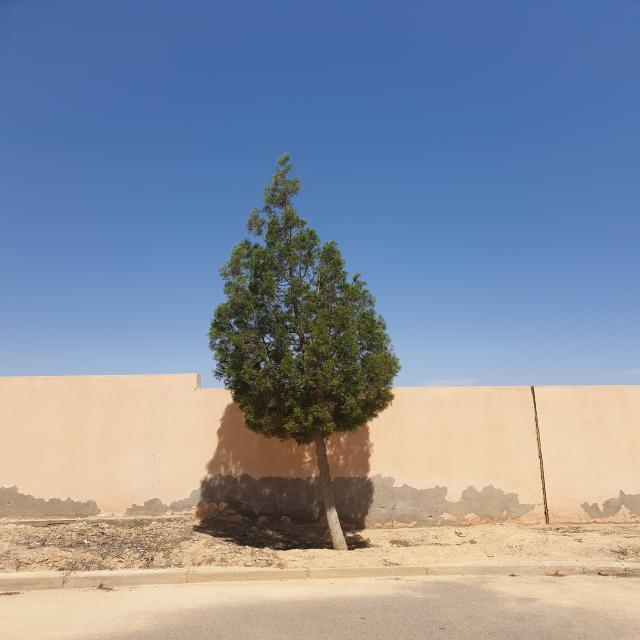Tree: (208, 154, 400, 551)
